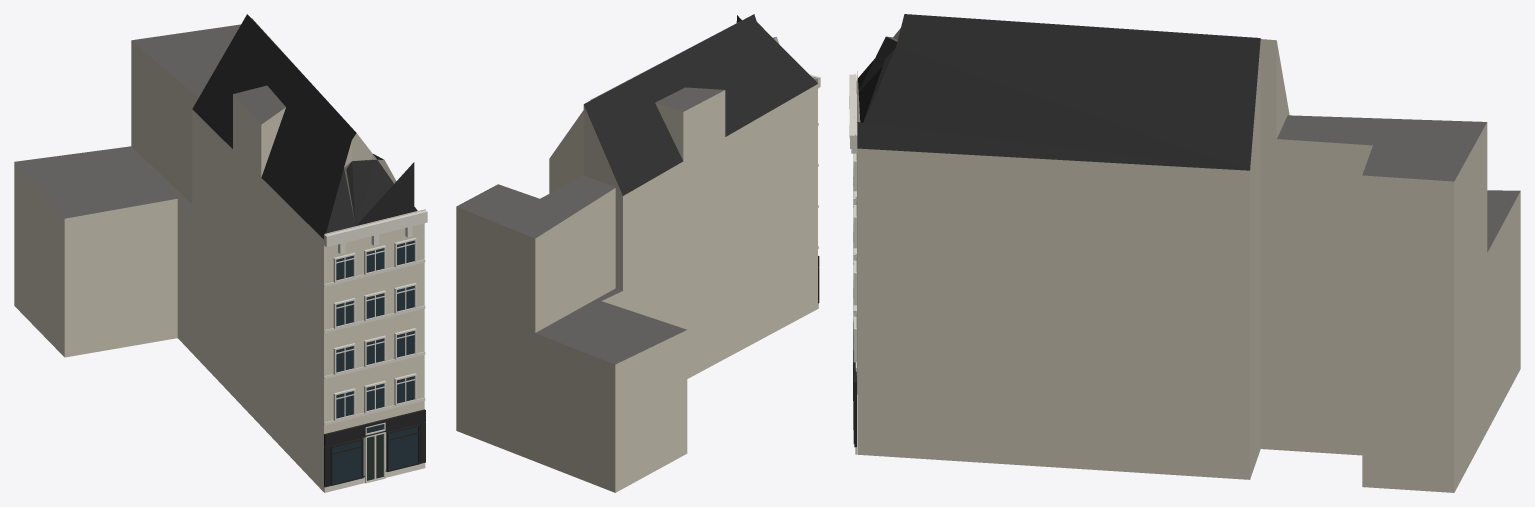
The picture shows the model from 3 angles, left to right: view 1: azimuth 30°, elevation 25°; view 2: azimuth 150°, elevation 25°; view 3: azimuth 270°, elevation 25°; orthographic projection. The views are drawn at different scales.
Parts seen in each view (by area): view 1: spec-0363100012171761; view 2: spec-0363100012171761; view 3: spec-0363100012171761.
Part boxes in pixels (x1=…): spec-0363100012171761: x1=14, y1=14, x2=427, y2=492; spec-0363100012171761: x1=456, y1=14, x2=820, y2=492; spec-0363100012171761: x1=849, y1=14, x2=1520, y2=492.
Size of the model in its own units: 11.78 by 16.97 by 25.11.
